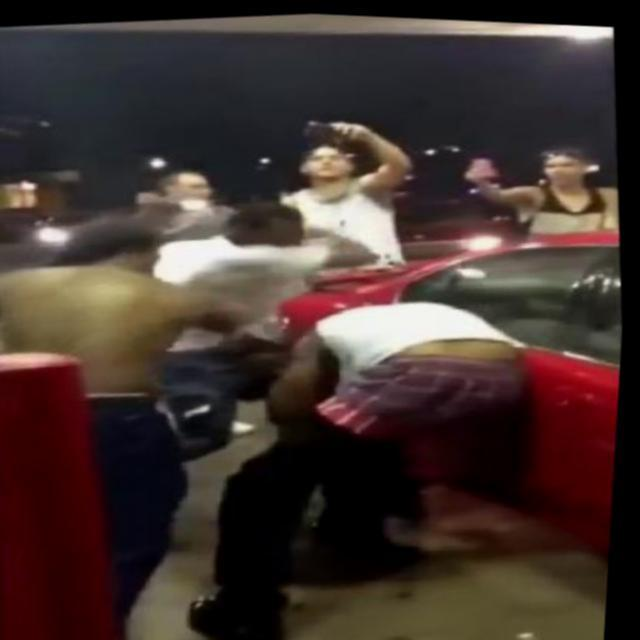fight: (0, 177, 586, 640)
